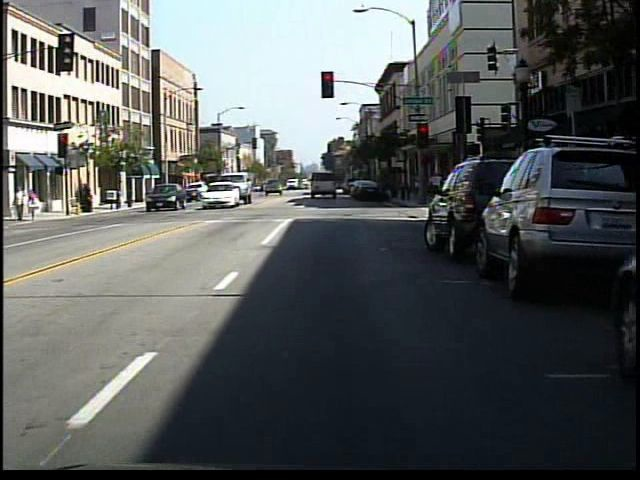person: (12, 183, 30, 225), (26, 185, 44, 220)
